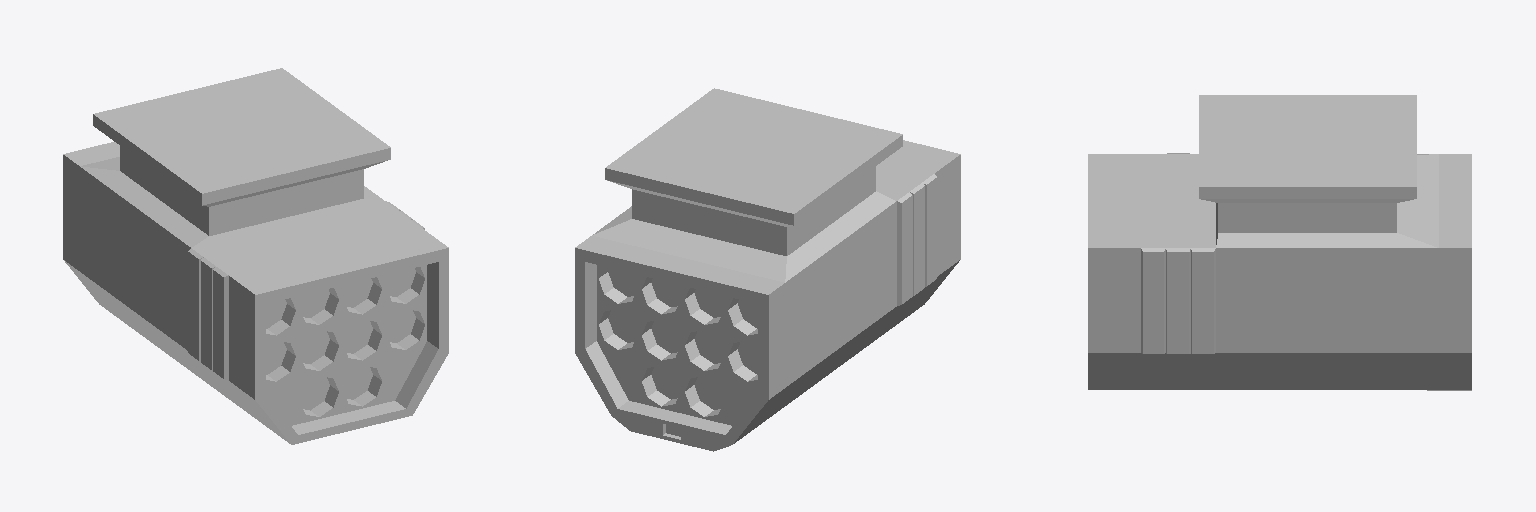
The model's file is Missile_Launcher.obj.
The picture shows the model from 3 angles: view 1: azimuth 30°, elevation 25°; view 2: azimuth 150°, elevation 25°; view 3: azimuth 270°, elevation 25°; orthographic projection.
Visible parts, largest first — view 1: Missile_Launcher:polySurface9; view 2: Missile_Launcher:polySurface9; view 3: Missile_Launcher:polySurface9.
Boxes of the visible parts, <box> form: Missile_Launcher:polySurface9: <box>63,68,448,444</box>; Missile_Launcher:polySurface9: <box>575,88,960,451</box>; Missile_Launcher:polySurface9: <box>1088,95,1471,390</box>.
Bounding box in the file's own units: 153 × 167 × 254.